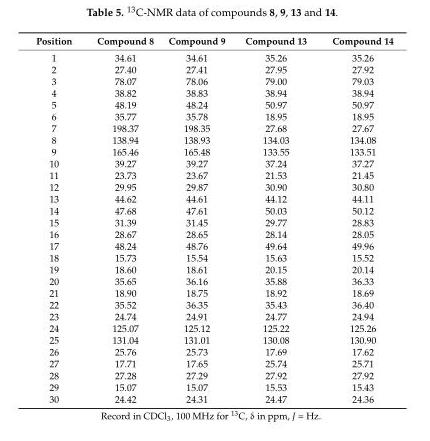table: (35, 34, 392, 404)
table column: (234, 34, 318, 404), (83, 34, 160, 404), (160, 34, 234, 404), (318, 34, 392, 404), (35, 34, 83, 404)
table column header: (35, 34, 392, 48)
table row: (35, 48, 392, 63), (35, 34, 392, 48), (35, 74, 392, 86), (35, 86, 392, 98), (35, 98, 392, 110), (35, 121, 392, 133), (35, 133, 392, 145), (35, 145, 392, 157), (35, 157, 392, 169), (35, 180, 392, 192), (35, 192, 392, 204), (35, 204, 392, 216), (35, 227, 392, 239), (35, 239, 392, 251), (35, 251, 392, 263), (35, 274, 392, 286), (35, 286, 392, 298), (35, 298, 392, 310), (35, 310, 392, 322), (35, 333, 392, 345), (35, 345, 392, 357), (35, 357, 392, 369), (35, 380, 392, 392), (35, 392, 392, 404), (35, 63, 392, 74), (35, 110, 392, 121), (35, 169, 392, 180), (35, 216, 392, 227), (35, 263, 392, 274), (35, 322, 392, 333), (35, 369, 392, 380)
